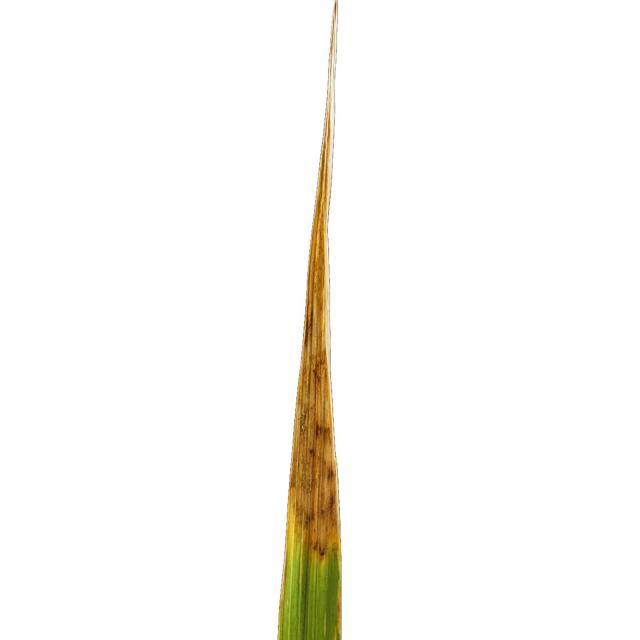Leaf scald: (218, 0, 400, 640)
